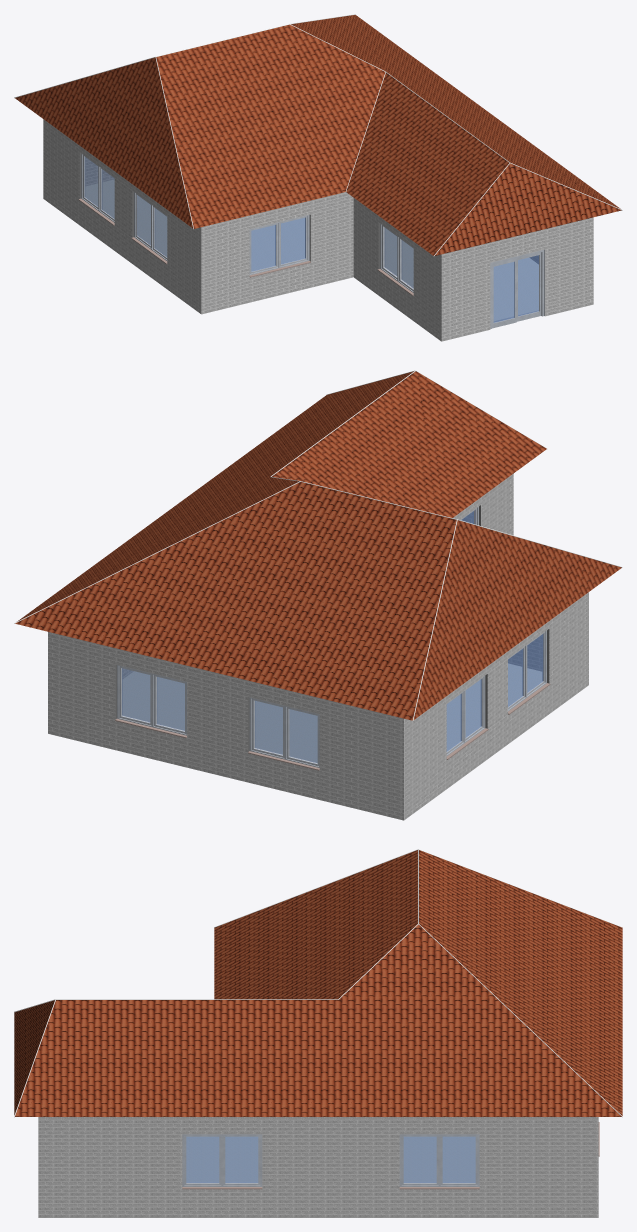
File: telhado44N.glb
3 views of the same model, one above another, from view 1: azimuth 30°, elevation 25°; view 2: azimuth 150°, elevation 25°; view 3: azimuth 270°, elevation 25° (orthographic). The views are drawn at different scales.
Parts seen in each view (by area): view 1: object 2, root; view 2: object 2, root; view 3: object 2, root.
Part boxes in pixels (x1,y1,x2,y2): object 2: [15, 15, 621, 255]; root: [43, 119, 593, 341]; object 2: [15, 371, 621, 720]; root: [48, 474, 588, 820]; object 2: [14, 850, 622, 1116]; root: [38, 1117, 599, 1217].
Size of the model in its own units: 11.22 by 6.02 by 15.22.
Materials: 12 (4 with a texture image).
